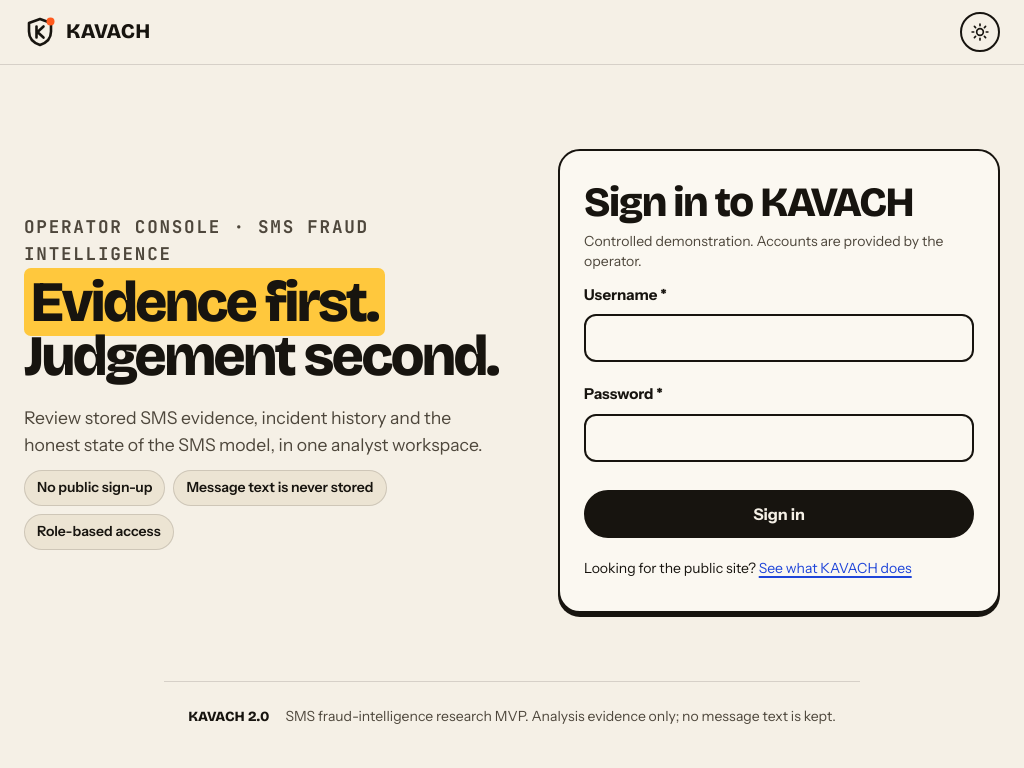
Test case: sign in › signs in, sends only the credentials, and clears the password
The width and height of the screenshot is (1024, 768).
Type "analyst.one" into the field labelled "Username *" at (779, 338), box [584, 314, 974, 362]
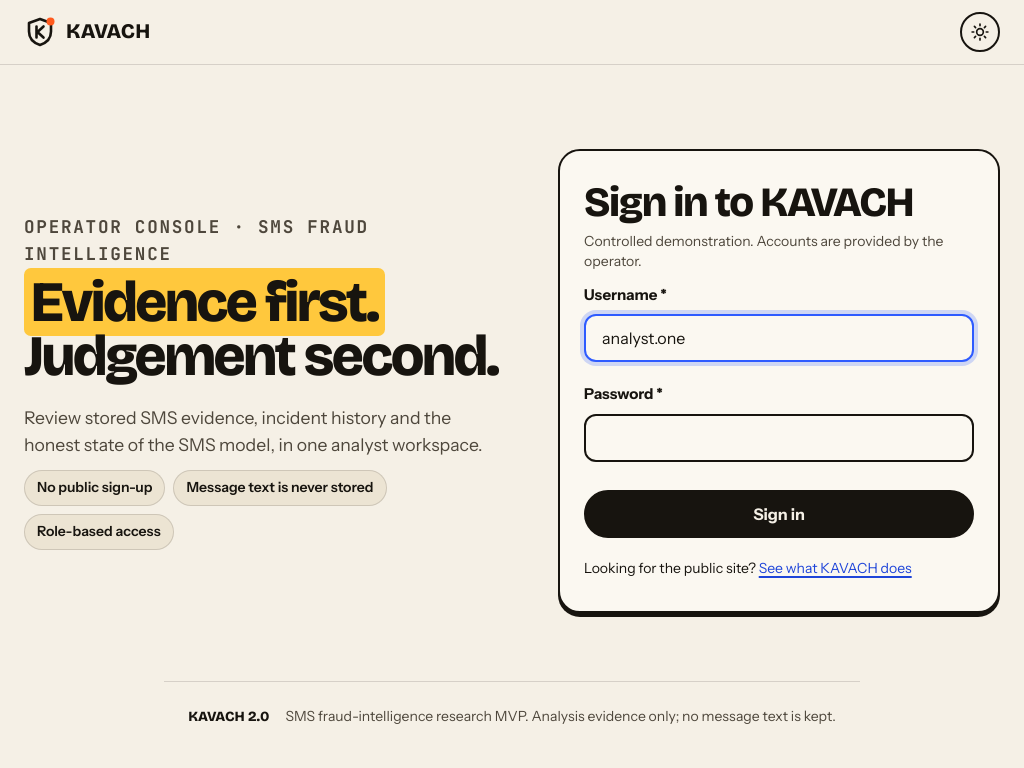
Type "correct horse" into the password field labelled "Password *" at (779, 438), box [584, 414, 974, 462]
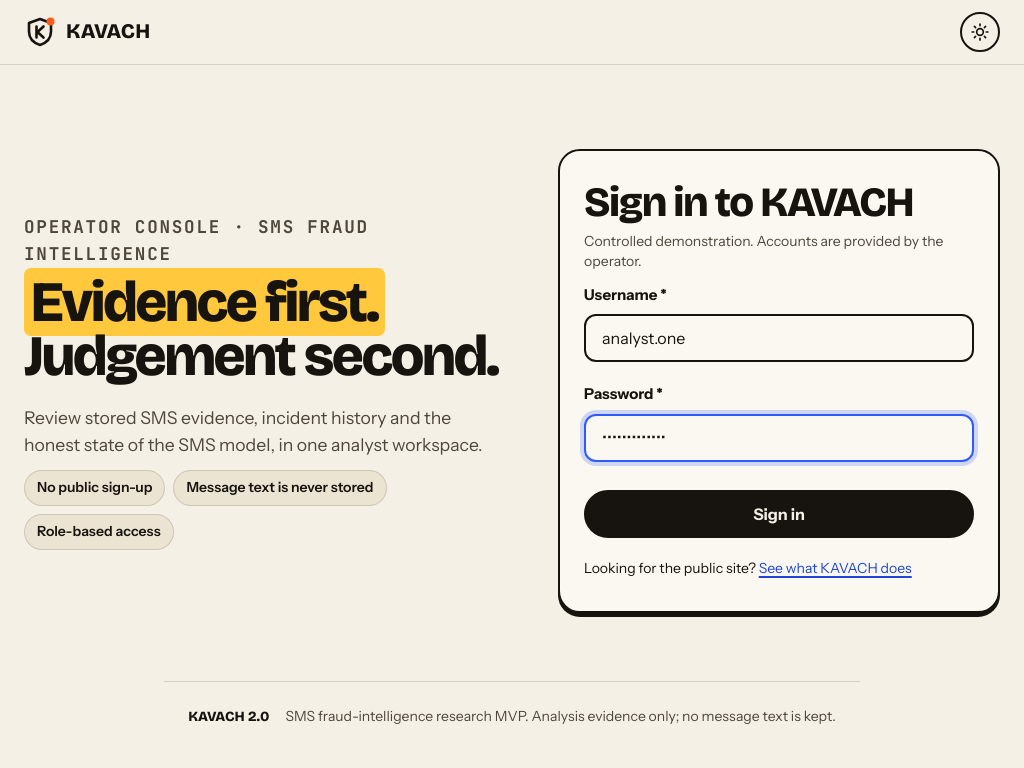
Click the button "Sign in" at (779, 514), box [584, 490, 974, 538]
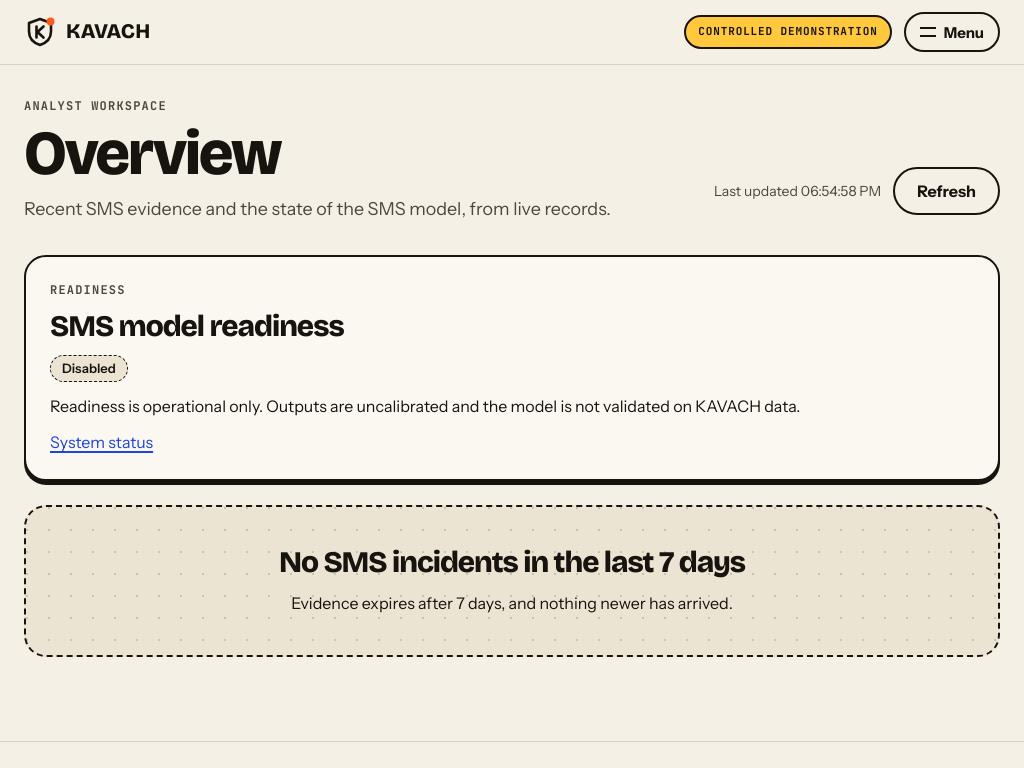
Now the heading "Overview" is shown, box [24, 116, 280, 191]
